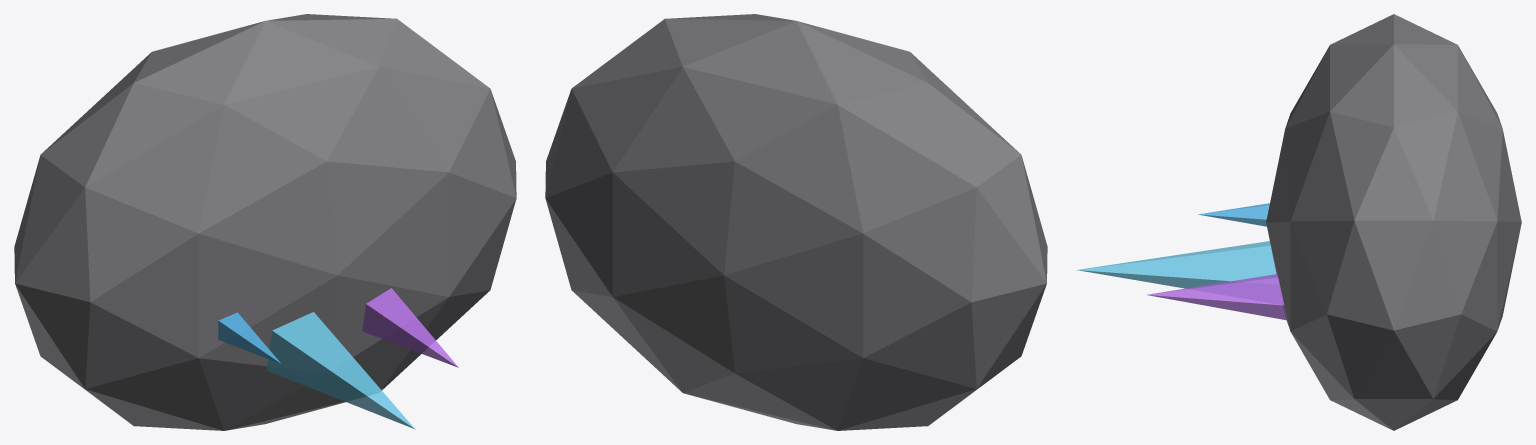
Rendered from cave_crystal_geode.glb.
3 views of the same model, side by side, from view 1: azimuth 30°, elevation 25°; view 2: azimuth 150°, elevation 25°; view 3: azimuth 270°, elevation 25° (orthographic). The views are drawn at different scales.
Visible parts, largest first — view 1: rock_shell, crystal_a, crystal_b, crystal_c; view 2: rock_shell; view 3: rock_shell, crystal_a, crystal_b, crystal_c.
Boxes of the visible parts, x1,y1,x2,y2 form: rock_shell: (14, 14, 516, 430); crystal_a: (267, 312, 415, 429); crystal_b: (362, 288, 458, 367); crystal_c: (218, 312, 281, 363); rock_shell: (545, 14, 1047, 430); rock_shell: (1266, 14, 1521, 430); crystal_a: (1077, 241, 1276, 288); crystal_b: (1146, 274, 1286, 320); crystal_c: (1197, 203, 1269, 226).
Size of the model in its own units: 1.69 by 1.3 by 1.47.
